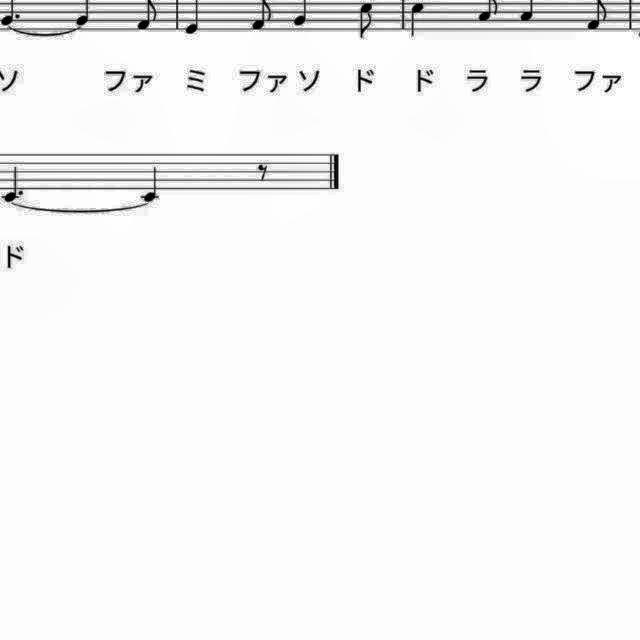Eighth-note: (246, 1, 278, 36), (354, 1, 378, 44)
Eighth-rest: (253, 159, 274, 185)
Quarter-dot: (0, 161, 30, 205)
Quarter-note: (136, 162, 166, 204), (408, 0, 432, 42), (182, 0, 206, 38)
